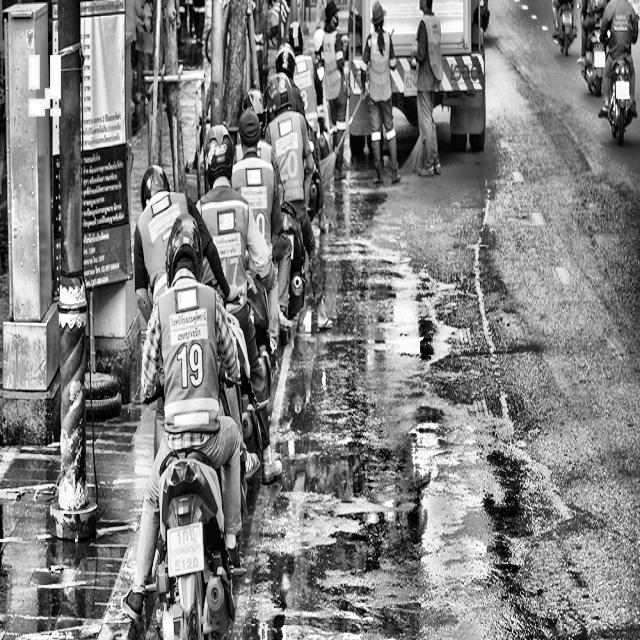Helmet: (162, 200, 205, 282), (200, 120, 239, 193), (256, 71, 306, 116), (137, 154, 173, 206)
